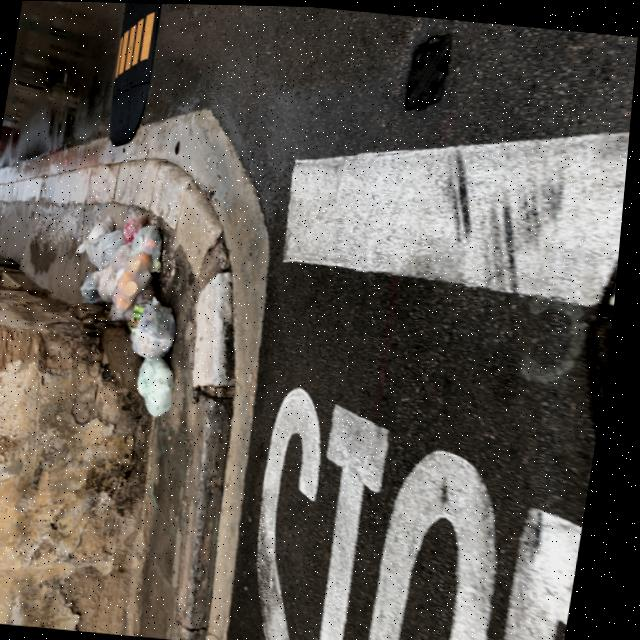Organic Waste -White Bag-: (133, 302, 187, 360), (116, 251, 161, 314), (141, 354, 186, 415), (77, 211, 121, 267), (102, 239, 138, 305), (114, 279, 164, 324), (133, 223, 174, 273), (95, 226, 137, 274), (84, 269, 111, 306), (126, 210, 153, 243)
